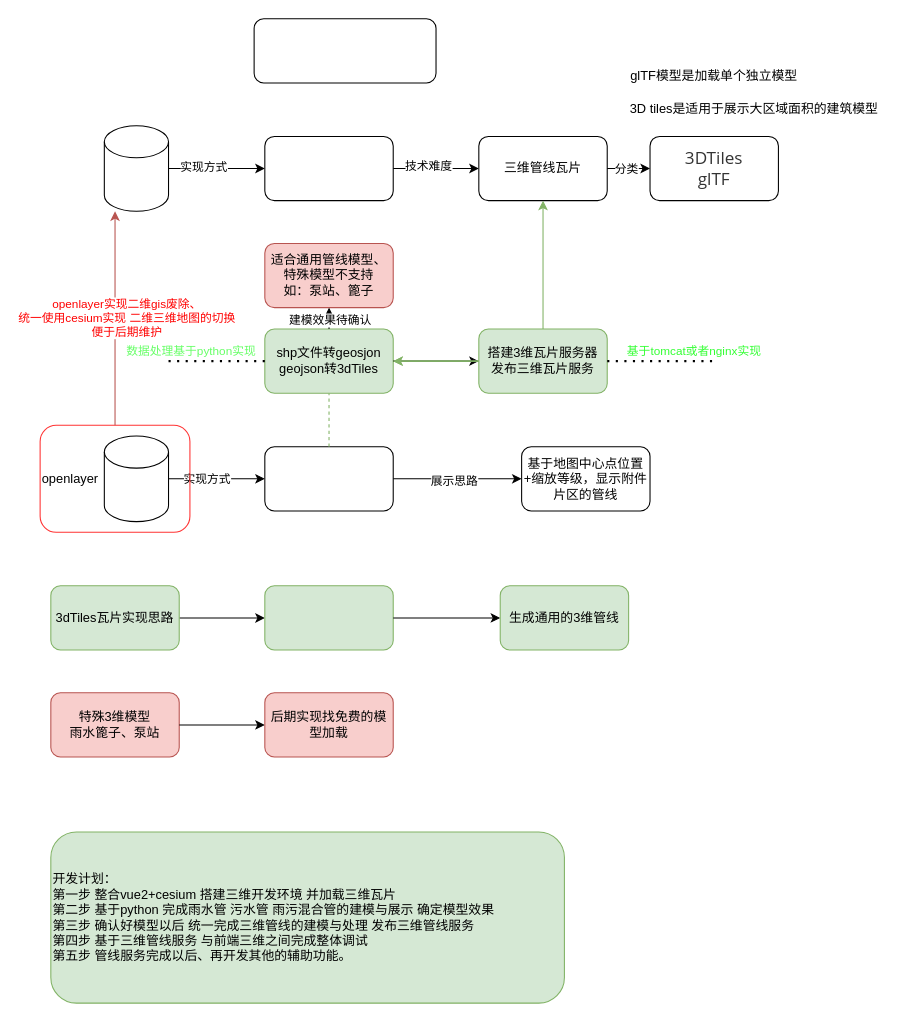
The diagram is 912 pixels wide and 1022 high, and some of its shapes have lost their labels. Each missing label, with the centre of its shape:
"2维GIS管网" belongs at (x=136, y=478).
"3维GIS管网" belongs at (x=136, y=168).
"3维GIS管网开发流程图" belongs at (x=344, y=50).
"二维信息+高度（或者自定义高度）+管径+材质+配色" belongs at (x=328, y=617).
"基于ArcGIS做数据裁剪形成多个shp文件，基于ArcGis Server发布地图服务" belongs at (x=328, y=478).
"基于Cesium.js加载三维瓦片 基于Three.js实现动画、粒子效果" belongs at (x=328, y=168).
